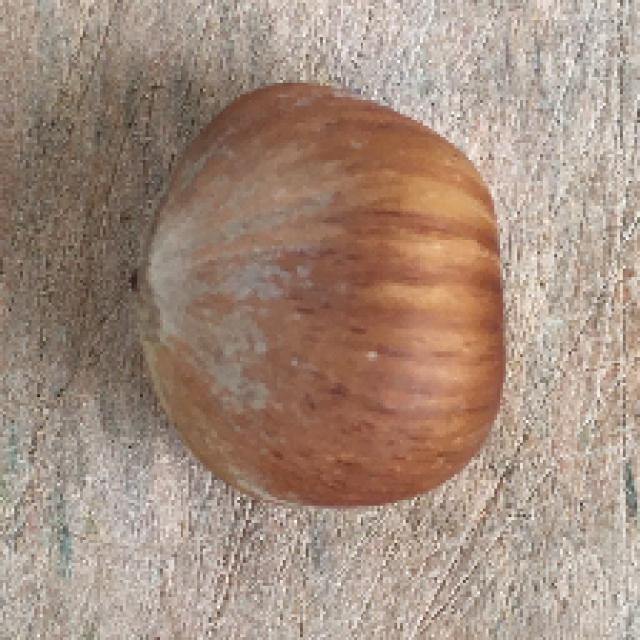qualityHazelnut: (136, 82, 505, 517)
